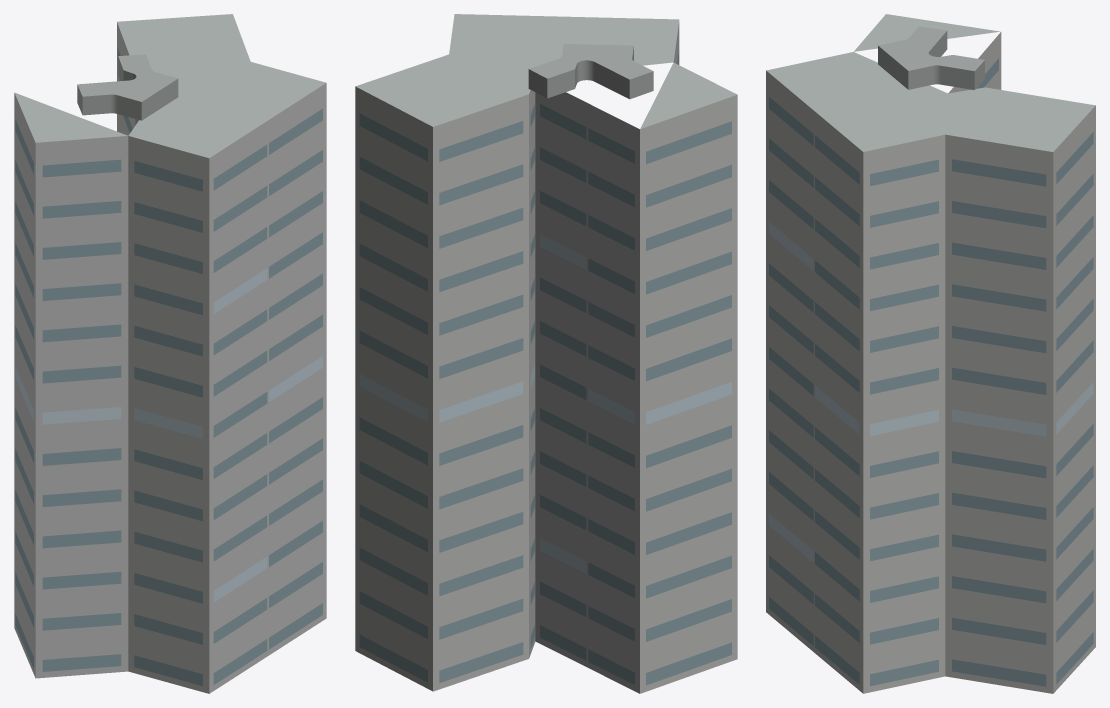
The model's file is fallback-jamsil-els-131.glb.
3 views of the same model, side by side, from view 1: azimuth 30°, elevation 25°; view 2: azimuth 150°, elevation 25°; view 3: azimuth 270°, elevation 25° (orthographic). The views are drawn at different scales.
Visible parts, largest first — view 1: fallback-jamsil-els-131; view 2: fallback-jamsil-els-131; view 3: fallback-jamsil-els-131.
Part boxes in pixels (box(x1,y1,x2,y2)): fallback-jamsil-els-131: box(14, 14, 326, 693); fallback-jamsil-els-131: box(355, 14, 737, 693); fallback-jamsil-els-131: box(766, 14, 1095, 693).
Size of the model in its own units: 37.53 by 71 by 37.84.
